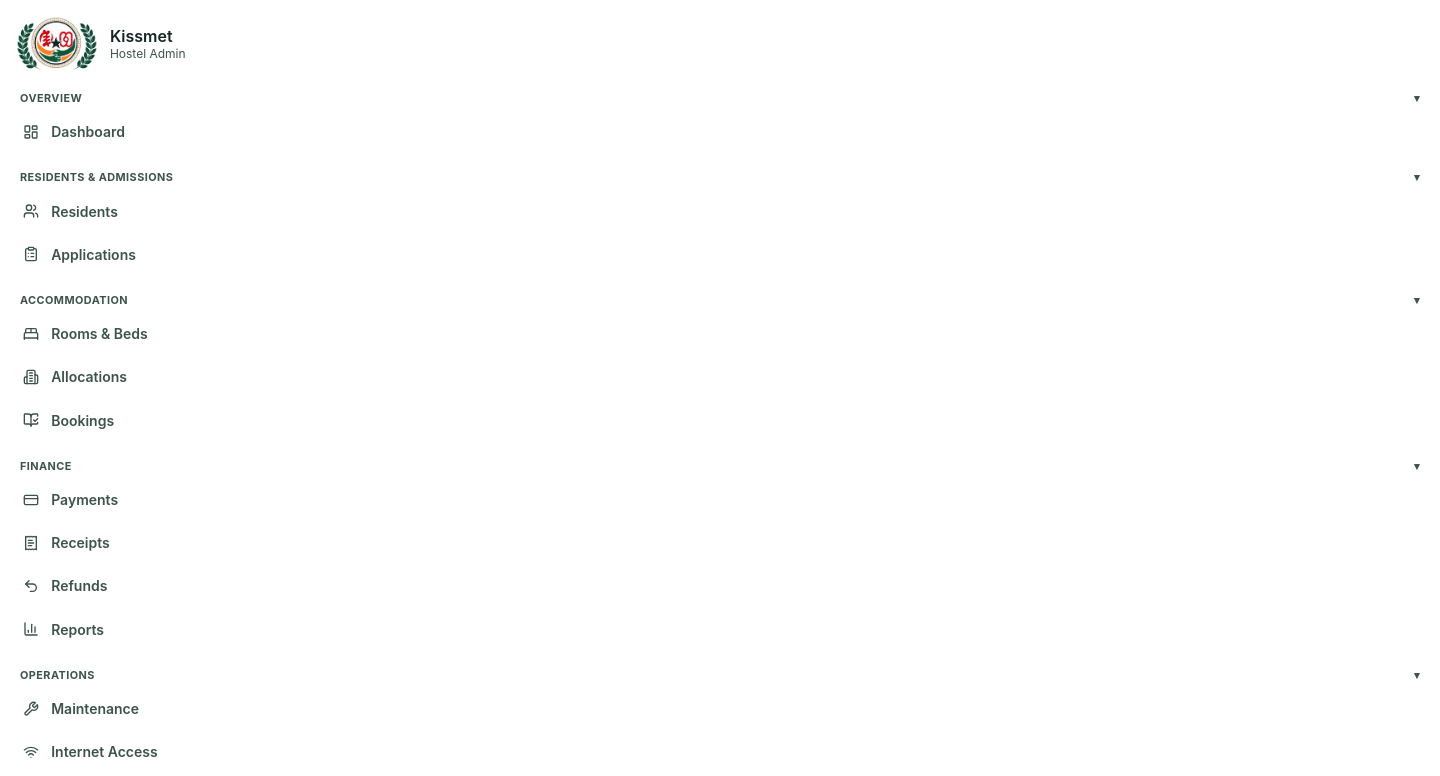
Test case: admin sidebar › keeps every authorized route inside the new groups
The width and height of the screenshot is (1440, 776).
Expected: the link "Dashboard" is shown, top-left (23, 123), bottom-right (125, 140)
Expected: the link "Residents" is shown, top-left (23, 202), bottom-right (118, 220)
Step 1. Click the button "Finance ▾" → (46, 466), box top-left (12, 452), bottom-right (1428, 480)
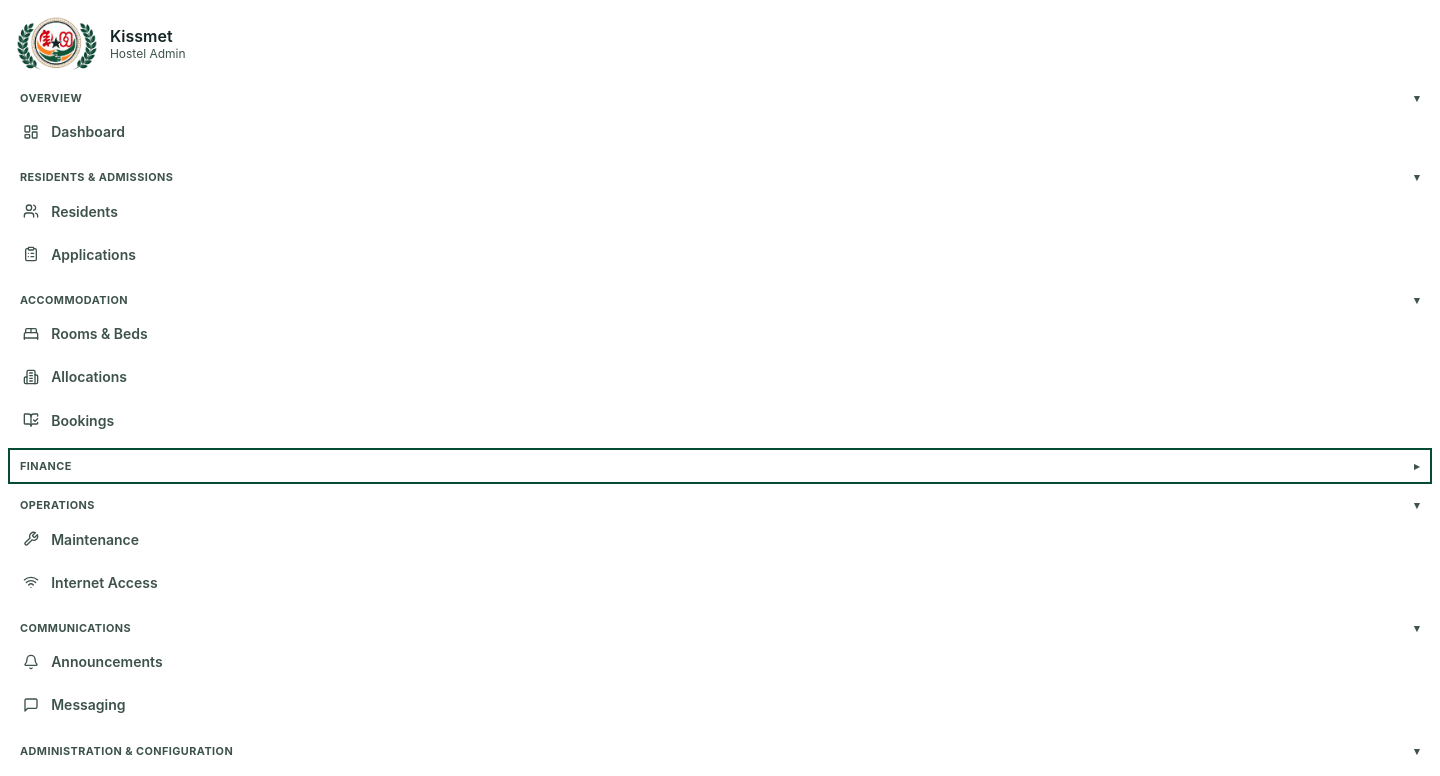
Expected: the link "Dashboard" is shown, top-left (23, 123), bottom-right (125, 140)
Expected: the link "Payments" is gone
